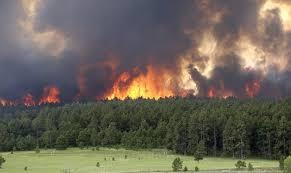fire: (97, 58, 197, 101), (0, 84, 65, 106), (205, 77, 264, 100)
